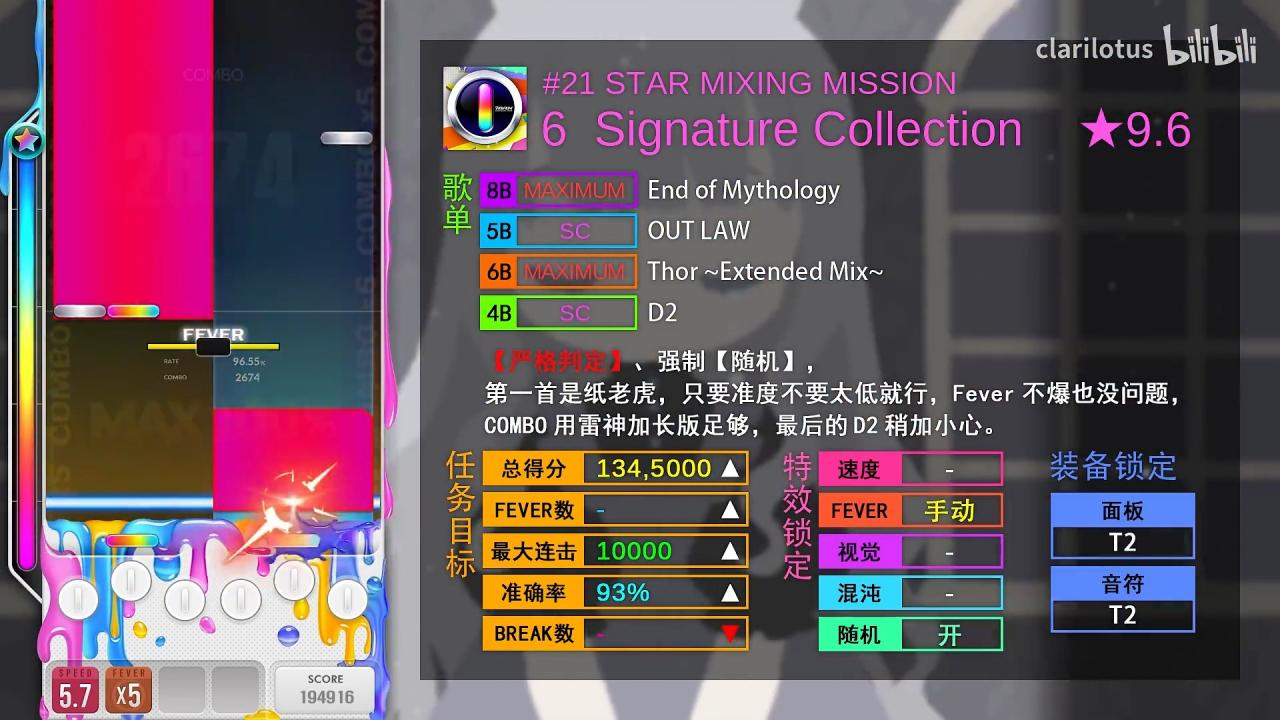note: (107, 304, 161, 318), (54, 304, 106, 318), (321, 131, 373, 145)
xend: (212, 407, 373, 423)
xstart: (53, 302, 214, 322)
